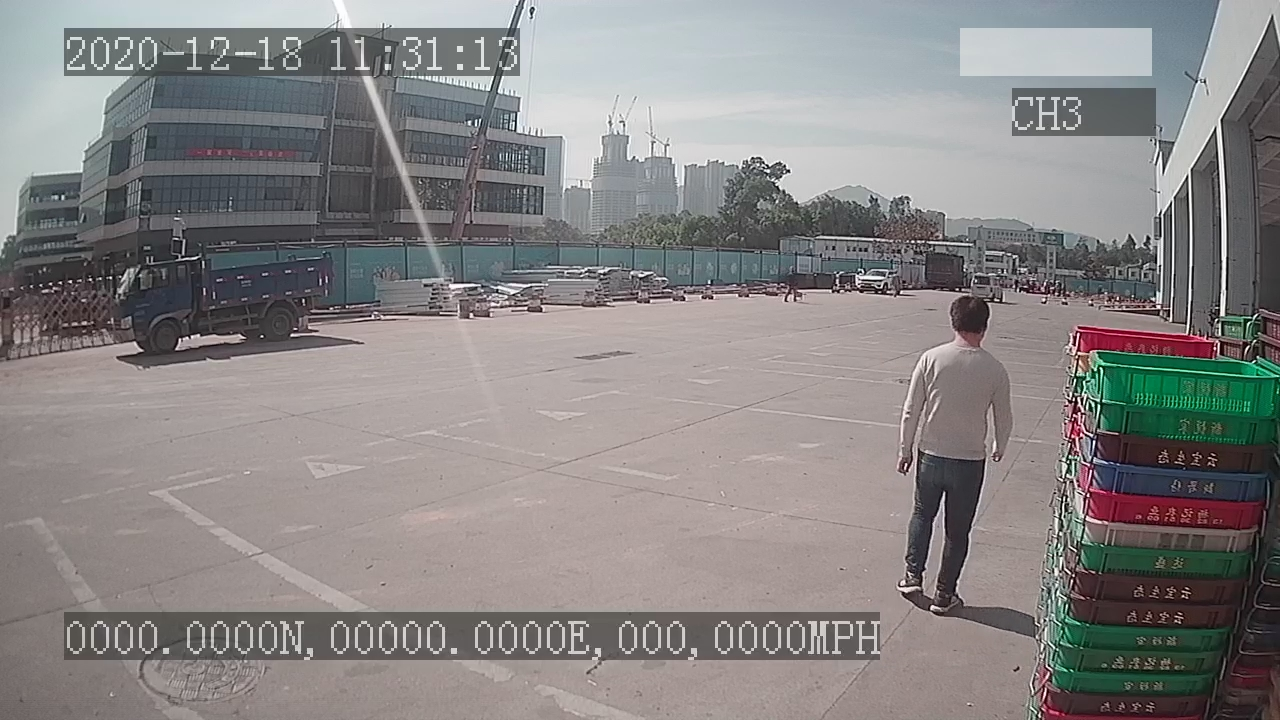person: (891, 296, 1013, 614)
